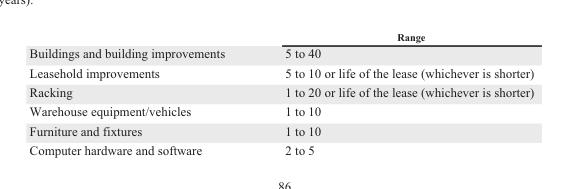table: (28, 28, 533, 158)
table column: (254, 28, 533, 158), (28, 28, 254, 158)
table column header: (28, 28, 533, 43)
table row: (28, 81, 533, 101), (28, 43, 533, 62), (28, 62, 533, 81), (28, 101, 533, 120), (28, 120, 533, 139), (28, 139, 533, 158), (28, 28, 533, 43)
